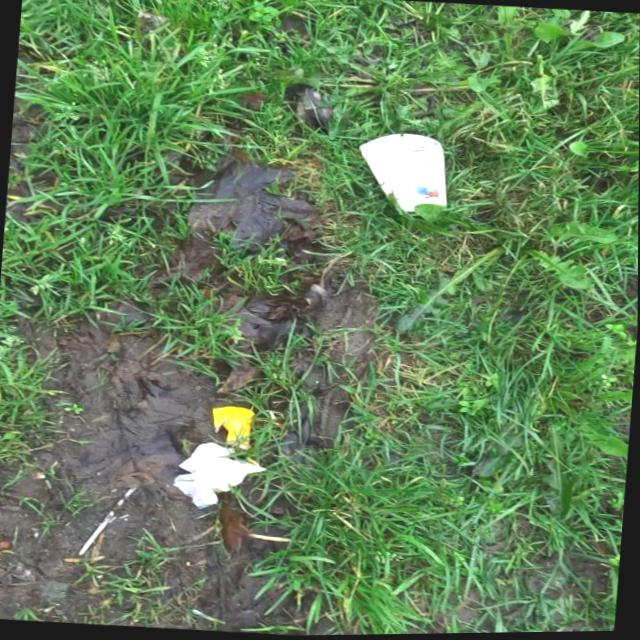Cup: (353, 129, 454, 217)
Paper: (168, 437, 271, 515)
Plastic: (210, 404, 258, 452)
